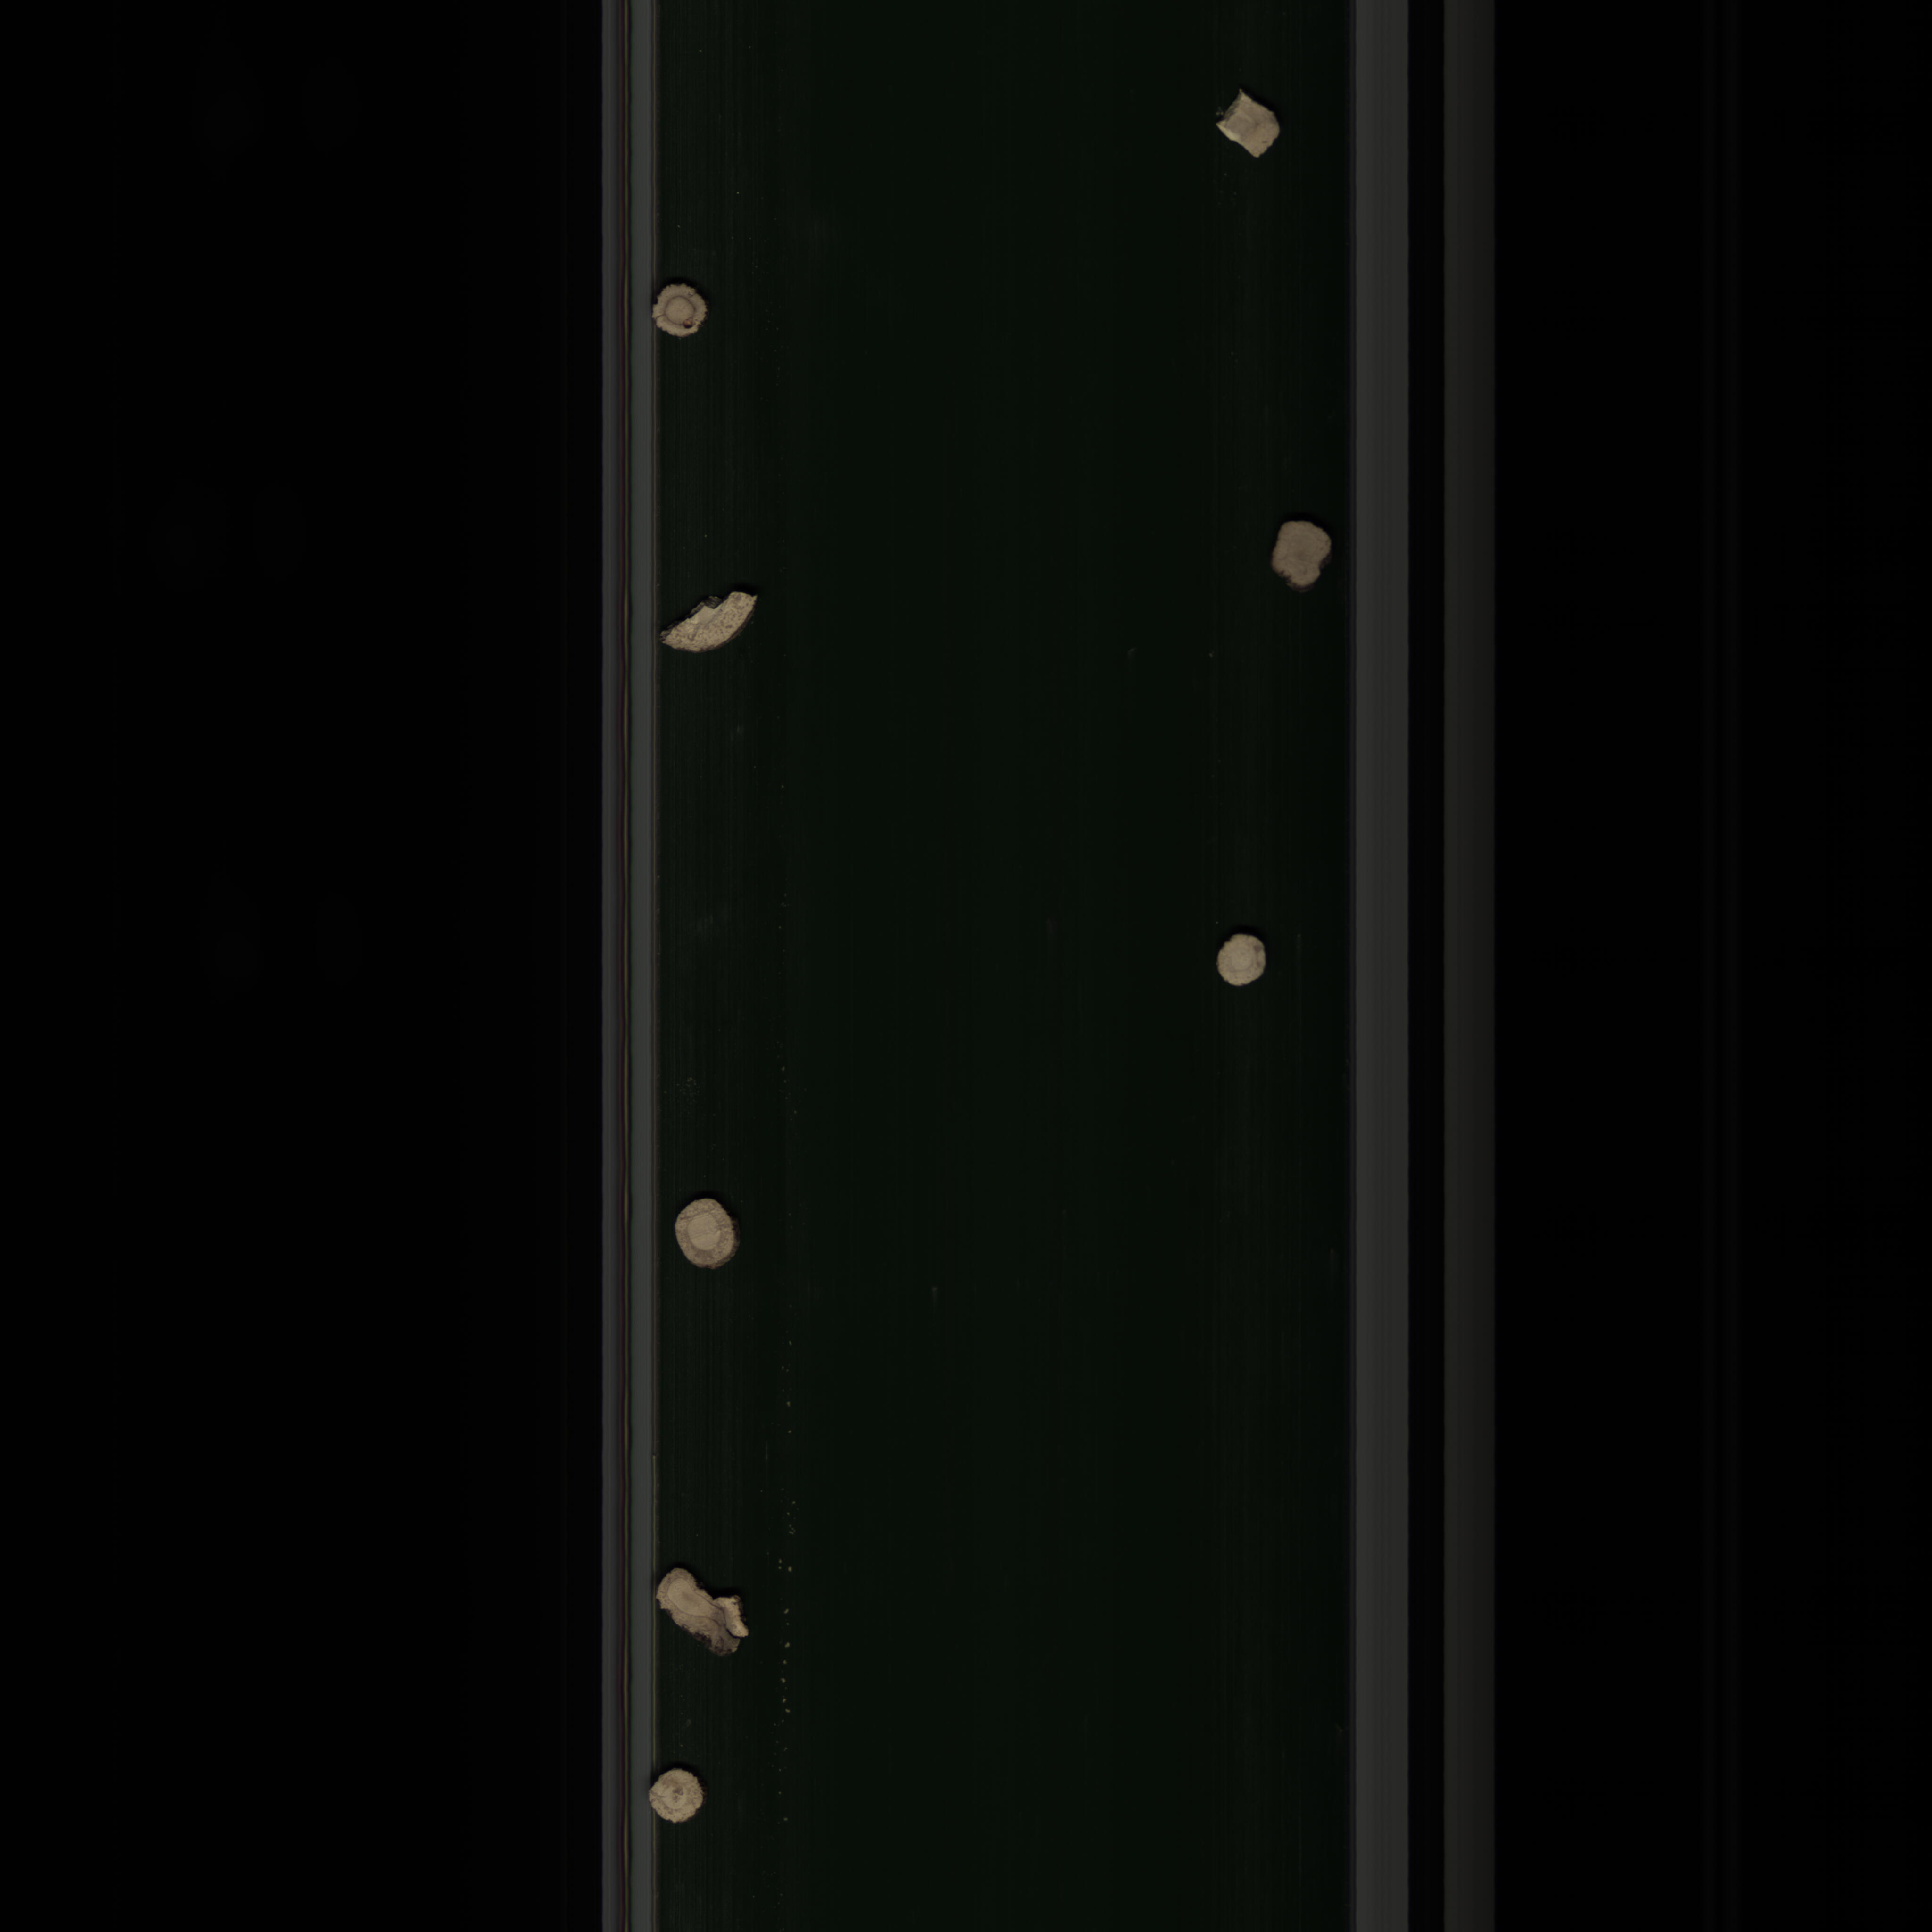bark: (649, 1560, 763, 1667)
debris: (655, 586, 784, 663), (1214, 81, 1284, 168)
moldy: (649, 281, 729, 343)
